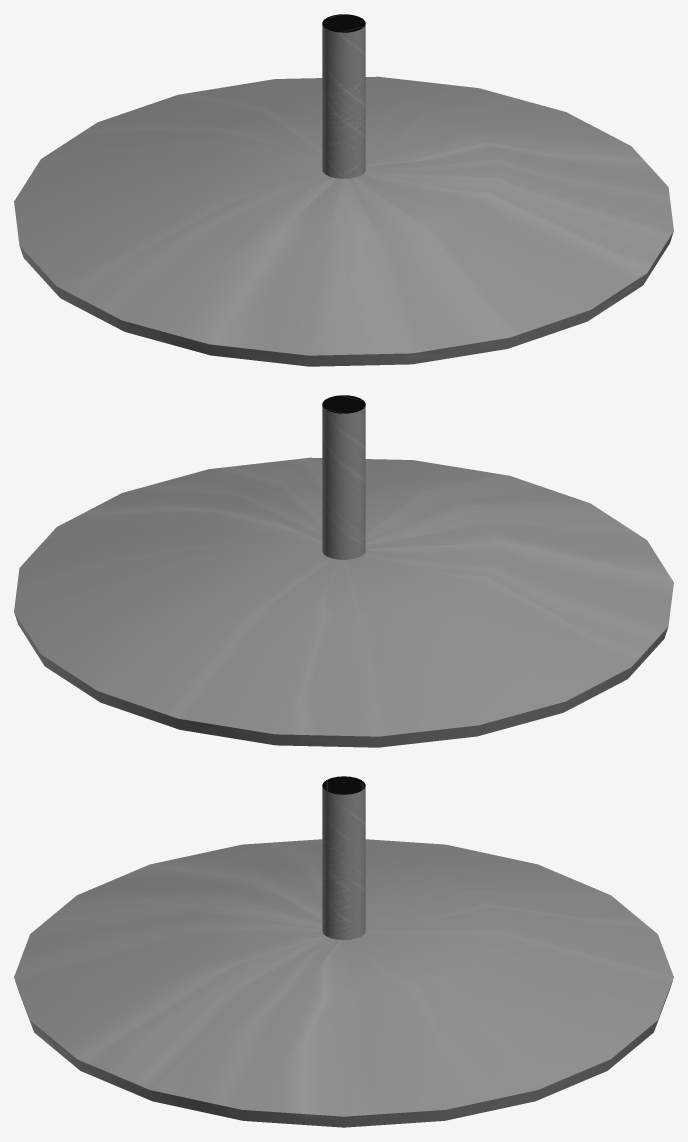
Rendered from chandelier.fbx.
3 renders of one model, top to bottom at view 1: azimuth 30°, elevation 25°; view 2: azimuth 150°, elevation 25°; view 3: azimuth 270°, elevation 25°, orthographic.
Visible parts, largest first — view 1: polySurface2; view 2: polySurface2; view 3: polySurface2.
Part boxes in pixels (box(x1,y1,x2,y2)): polySurface2: box(14, 14, 673, 366); polySurface2: box(14, 395, 673, 747); polySurface2: box(14, 776, 673, 1127).
Bounding box in the file's own units: 7.98 × 3.57 × 7.98.
2 materials, 1 textured.
